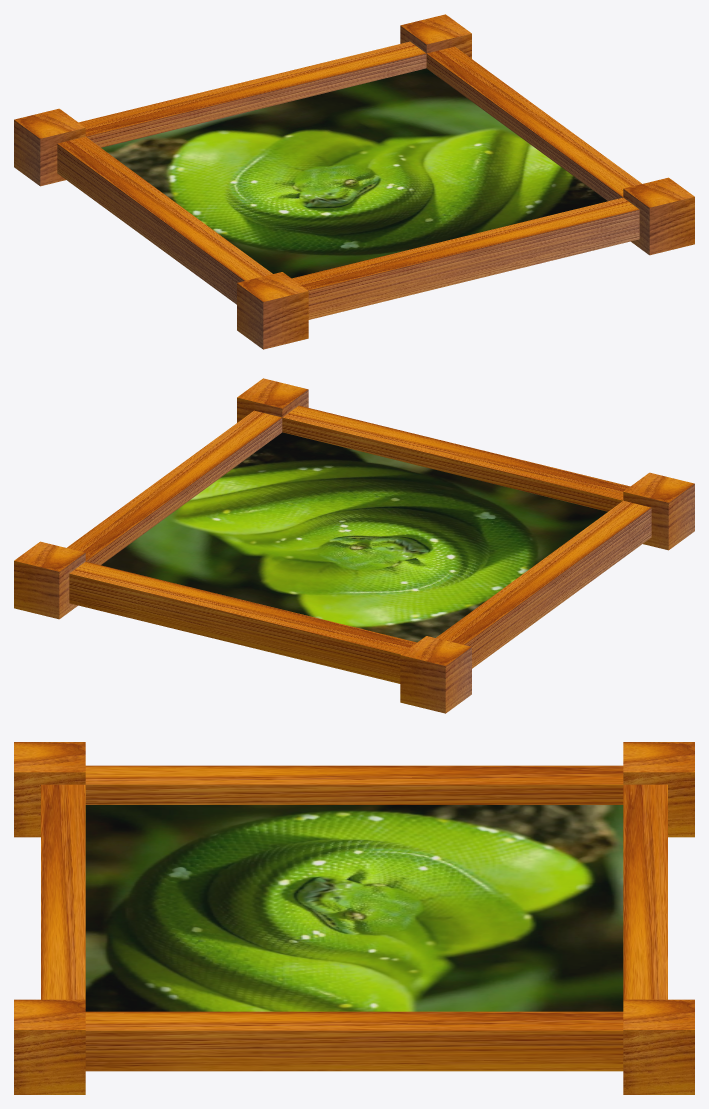
File: Serpiente.fbx
3 renders of one model, top to bottom at view 1: azimuth 30°, elevation 25°; view 2: azimuth 150°, elevation 25°; view 3: azimuth 270°, elevation 25°, orthographic. The views are drawn at different scales.
Visible parts, largest first — view 1: Serpiente; view 2: Serpiente; view 3: Serpiente.
Part boxes in pixels (x1,y1,x2,y2): Serpiente: (14, 14, 694, 349); Serpiente: (14, 378, 694, 713); Serpiente: (14, 742, 694, 1094).
Bounding box in the file's own units: 76 × 8 × 76.
